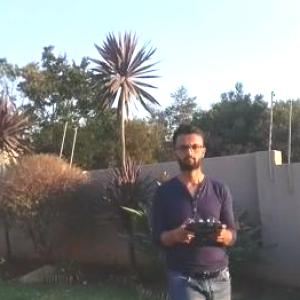follow: (154, 116, 251, 299)
